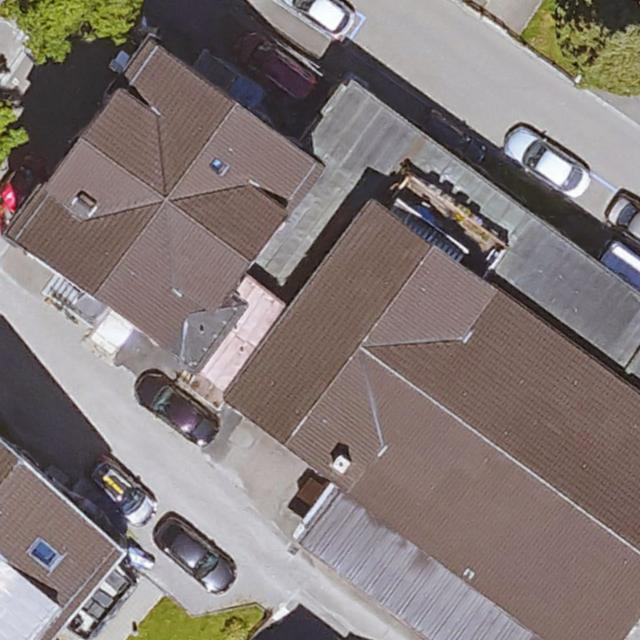tree: (0, 0, 148, 57), (559, 9, 640, 95), (0, 92, 25, 164)
